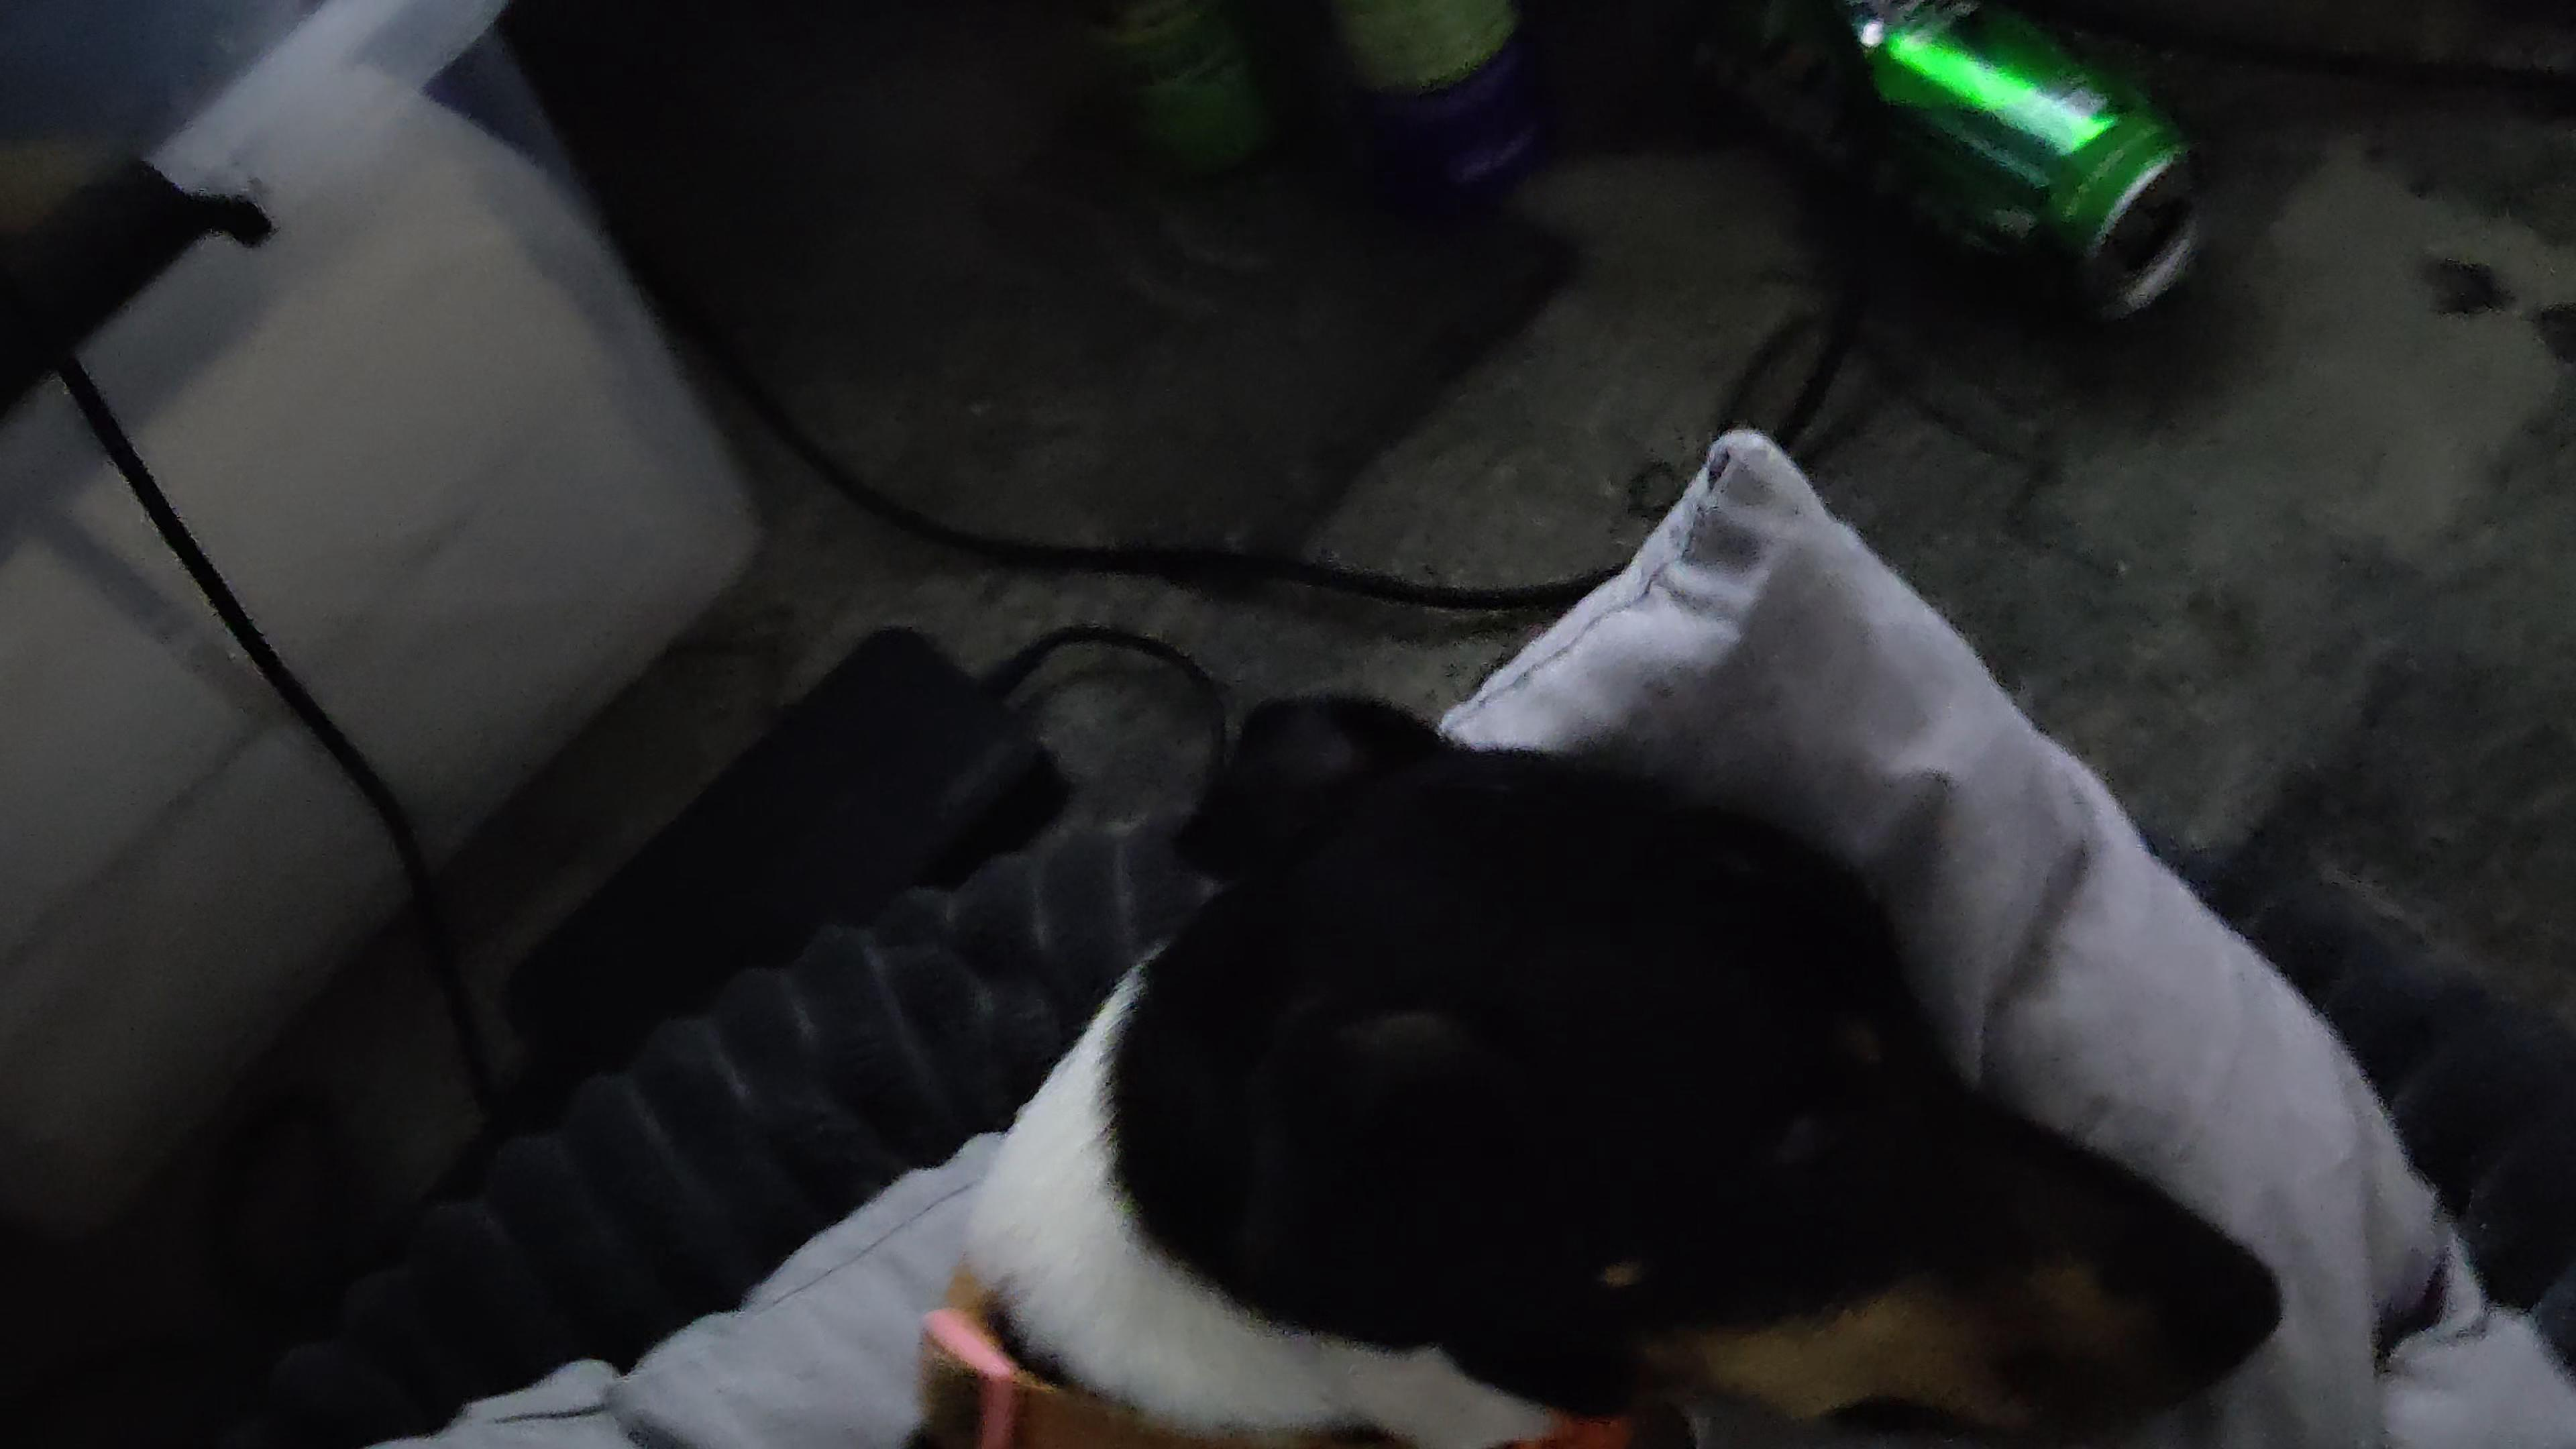Dog: (876, 649, 2318, 1449)
